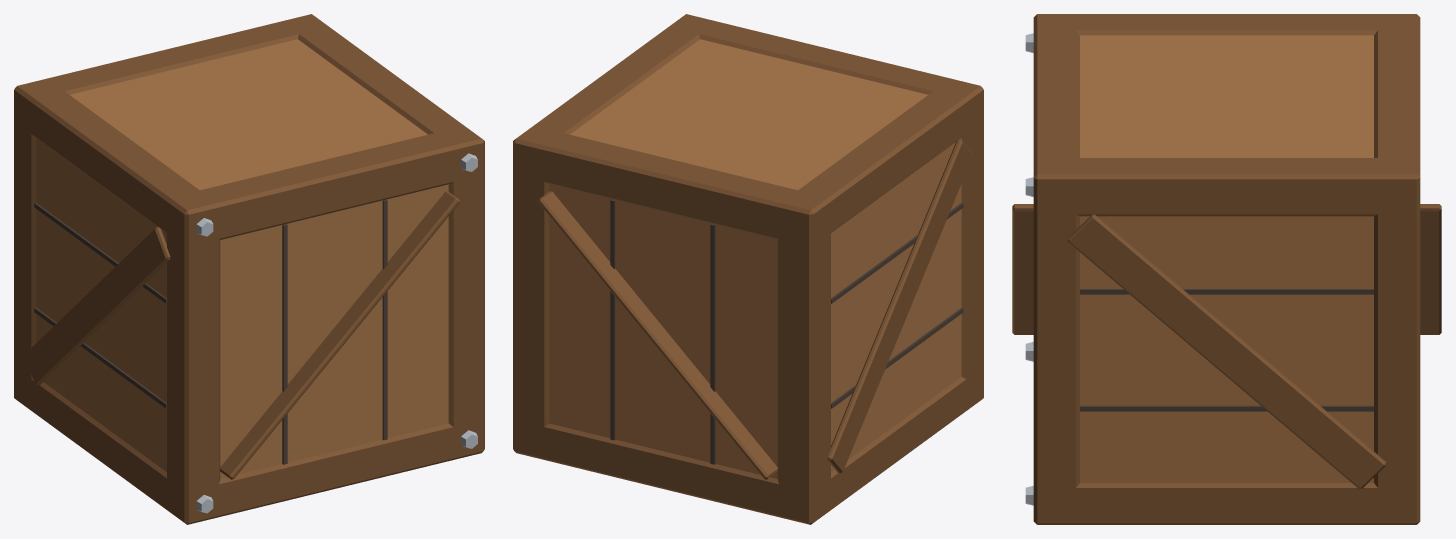
Rendered from Prop_CrateLarge.fbx.
The picture shows the model from 3 angles, left to right: view 1: azimuth 30°, elevation 25°; view 2: azimuth 150°, elevation 25°; view 3: azimuth 270°, elevation 25°; orthographic projection. The views are drawn at different scales.
Visible parts, largest first — view 1: Wood, WoodDark, Timber, SteelLight; view 2: Wood, WoodDark, Timber; view 3: WoodDark, Wood, Timber, SteelLight.
Boxes of the visible parts, x1,y1,x2,y2 form: Wood: [36, 39, 448, 478]; WoodDark: [14, 14, 484, 524]; Timber: [34, 199, 387, 464]; SteelLight: [196, 153, 477, 513]; Wood: [549, 39, 961, 478]; WoodDark: [513, 14, 983, 524]; Timber: [610, 199, 963, 464]; WoodDark: [1012, 14, 1441, 524]; Wood: [1080, 35, 1373, 482]; Timber: [1080, 289, 1373, 411]; SteelLight: [1025, 33, 1033, 505].
Size of the model in its own units: 3.08 by 3 by 3.33.
